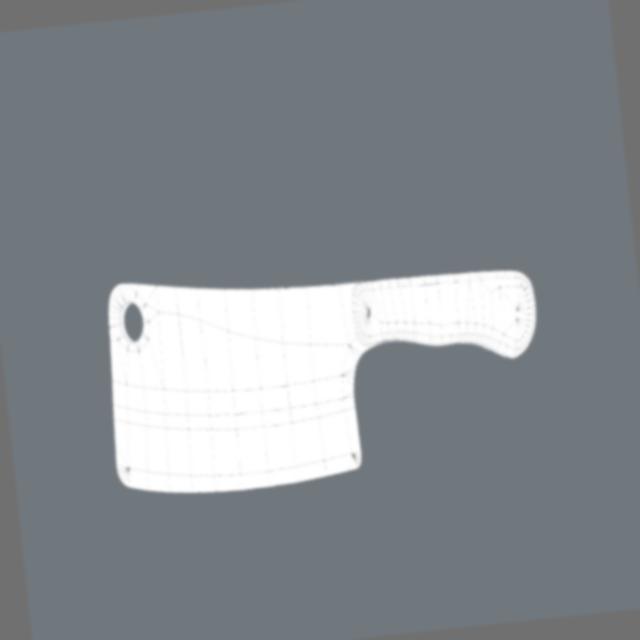cleaver: (96, 240, 556, 501)
